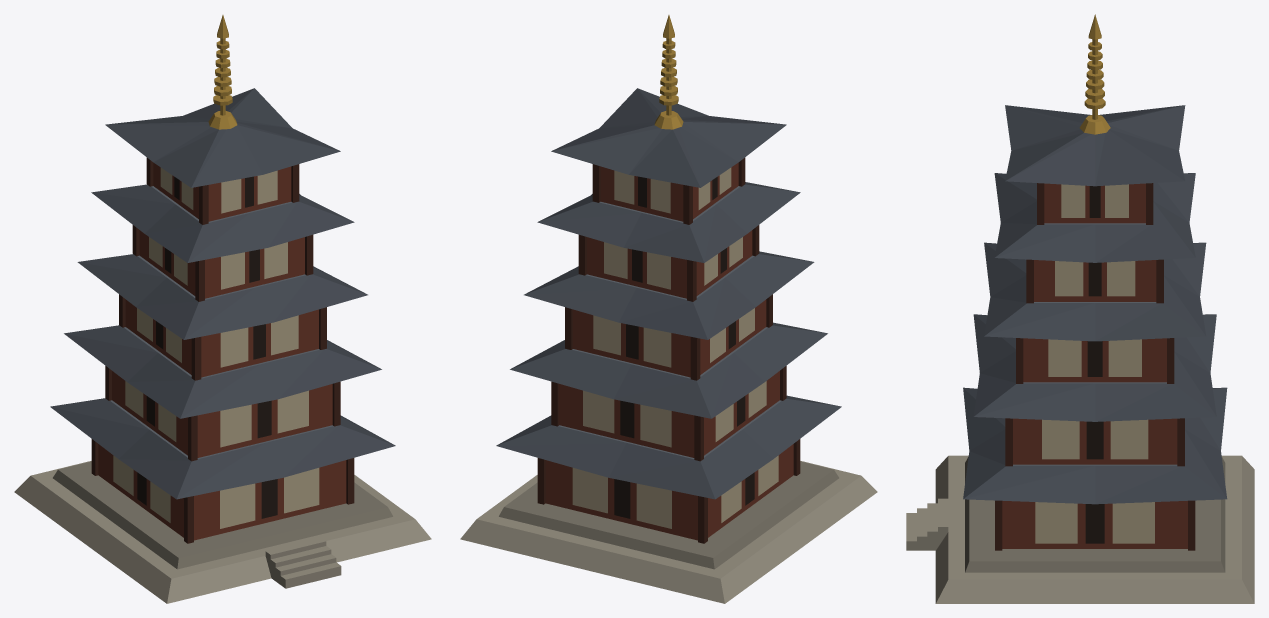
The model's file is pagode.glb.
3 views of the same model, side by side, from view 1: azimuth 30°, elevation 25°; view 2: azimuth 150°, elevation 25°; view 3: azimuth 270°, elevation 25° (orthographic). The views are drawn at different scales.
Visible parts, largest first — view 1: pagode; view 2: pagode; view 3: pagode.
Part boxes in pixels (<box>): pagode: <box>14,15,431,603</box>; pagode: <box>460,15,877,603</box>; pagode: <box>906,14,1254,603</box>.
Bounding box in the file's own units: 1.52 × 2.75 × 1.66.
